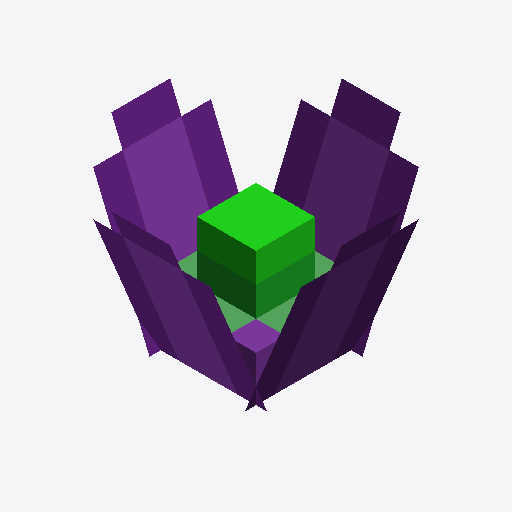
A Minecraft block model of 6 cuboids, rendered isometrically (azimuth 45°, elevation 35.3°) with the resource pack's own textures.
Parts seen in each view (by area): leaf (×4), bud, stem.
Part boxes in pixels (left/top/right/bottom): leaf (×4): left=93, top=79, right=418, bottom=410; bud: left=197, top=183, right=314, bottom=318; stem: left=178, top=251, right=333, bottom=385.
Bounding box in the file's own units: 7.83 × 5.54 × 7.83.